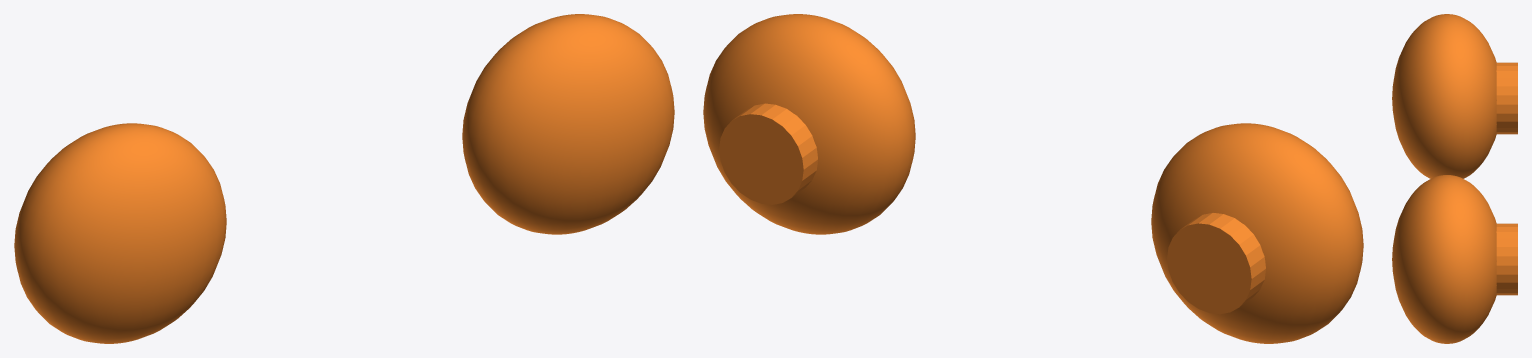
The model's file is hardware.glb.
3 renders of one model, left to right at view 1: azimuth 30°, elevation 25°; view 2: azimuth 150°, elevation 25°; view 3: azimuth 270°, elevation 25°, orthographic. The views are drawn at different scales.
Parts seen in each view (by area): view 1: Left round orange knob, Right round orange knob; view 2: Right round orange knob, Left round orange knob, Left knob neck, Right knob neck; view 3: Right round orange knob, Left round orange knob, Left knob neck, Right knob neck.
Part boxes in pixels (x1=…): Left round orange knob: x1=14, y1=123, x2=226, y2=343; Right round orange knob: x1=462, y1=14, x2=674, y2=234; Right round orange knob: x1=703, y1=14, x2=915, y2=234; Left round orange knob: x1=1151, y1=123, x2=1363, y2=343; Left knob neck: x1=1167, y1=213, x2=1265, y2=314; Right knob neck: x1=719, y1=103, x2=817, y2=204; Right round orange knob: x1=1392, y1=175, x2=1496, y2=343; Left round orange knob: x1=1392, y1=14, x2=1496, y2=178; Left knob neck: x1=1496, y1=62, x2=1517, y2=134; Right knob neck: x1=1496, y1=223, x2=1517, y2=295.
Size of the model in its own units: 0.26 by 0.08 by 0.0595.
